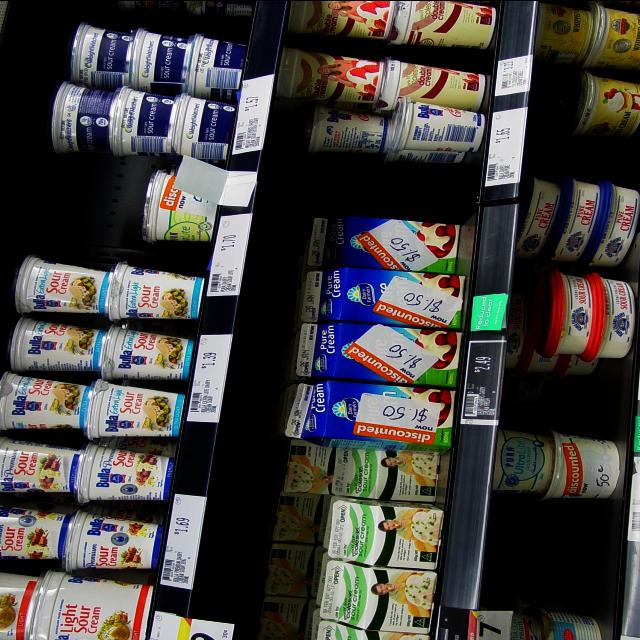empty_space: (495, 509, 599, 589), (297, 168, 478, 207), (525, 381, 619, 425), (539, 134, 633, 174)
